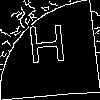H: (25, 24, 70, 73)
